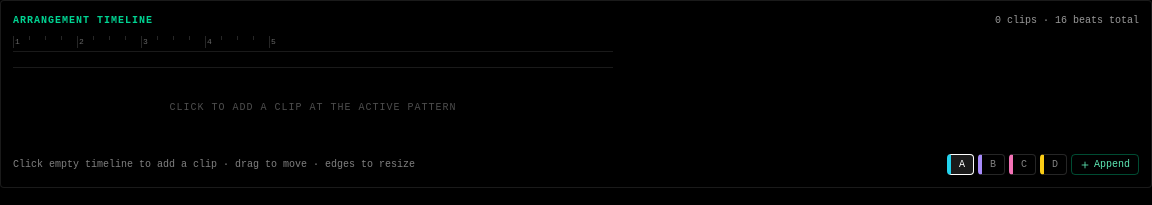
Test: ArrangementPanel › shows the loop multiplier when loops > 1
The width and height of the screenshot is (1152, 205).
Click the button "Append" at (1105, 164), box left=1071, top=154, right=1139, bottom=175
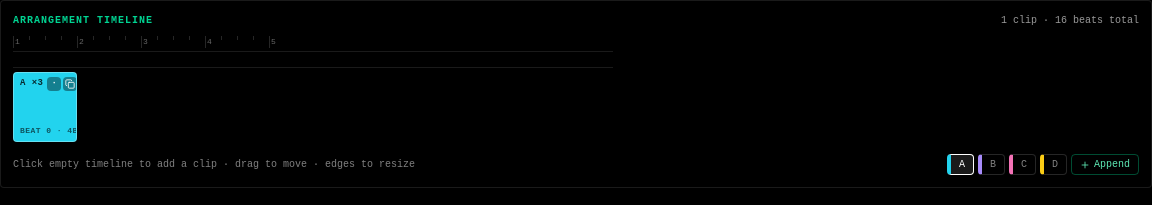
Expected: the text "A ×3" is shown, left=20, top=77, right=43, bottom=91
